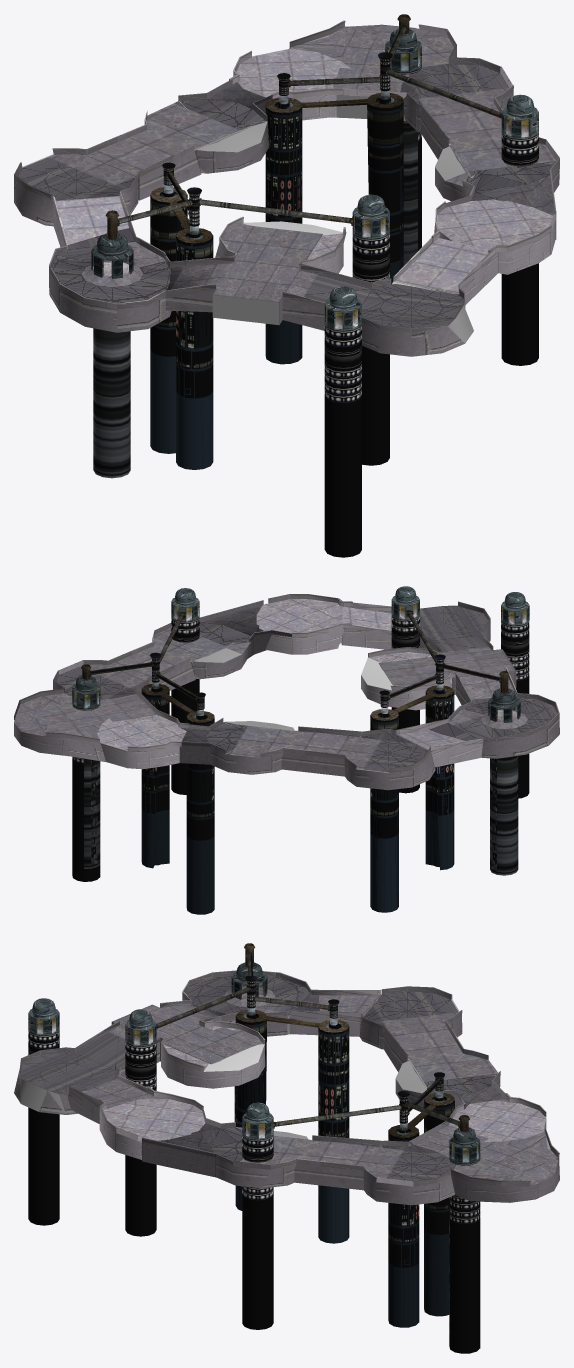
The model's file is building4.gltf.
3 renders of one model, top to bottom at view 1: azimuth 30°, elevation 25°; view 2: azimuth 150°, elevation 25°; view 3: azimuth 270°, elevation 25°, orthographic. The views are drawn at different scales.
Parts seen in each view (by area): view 1: polymsh6, polymsh7, polymsh1255, polymsh1249, polymsh8, polymsh1248, cylinder16, cube, polymsh_detached36, polymsh1250, cylinder15, cylinder71 (+6 smaller); view 2: polymsh1255, polymsh7, polymsh6, polymsh1249, polymsh8, polymsh1248, polymsh1250, cylinder71, cylinder15, polymsh_detached36, cube, cylinder (+5 smaller); view 3: polymsh1255, polymsh1249, polymsh6, polymsh7, polymsh8, polymsh_detached36, polymsh1248, polymsh1250, cylinder16, cylinder17, cylinder, cylinder71 (+5 smaller).
Part boxes in pixels (<box>): polymsh6: <box>49,228,473,356</box>; polymsh7: <box>14,79,271,226</box>; polymsh1255: <box>265,14,421,364</box>; polymsh1249: <box>399,57,559,239</box>; polymsh8: <box>150,162,213,469</box>; polymsh1248: <box>392,199,555,304</box>; cylinder16: <box>324,315,361,557</box>; cube: <box>212,224,322,325</box>; polymsh_detached36: <box>385,69,538,365</box>; polymsh1250: <box>289,20,456,121</box>; cylinder15: <box>93,276,130,478</box>; cylinder71: <box>229,48,407,120</box>; polymsh1255: <box>72,652,214,914</box>; polymsh7: <box>179,718,435,790</box>; polymsh6: <box>420,601,559,758</box>; polymsh1249: <box>53,600,291,699</box>; polymsh8: <box>370,654,454,912</box>; polymsh1248: <box>256,594,391,654</box>; polymsh1250: <box>14,688,156,761</box>; cylinder71: <box>97,687,189,769</box>; cylinder15: <box>490,756,518,875</box>; polymsh_detached36: <box>159,588,199,794</box>; cube: <box>378,649,516,694</box>; cylinder: <box>361,647,456,710</box>; polymsh1255: <box>388,1072,480,1353</box>; polymsh1249: <box>142,1107,456,1205</box>; polymsh6: <box>14,962,319,1114</box>; polymsh7: <box>359,986,505,1112</box>; polymsh8: <box>235,975,349,1243</box>; polymsh_detached36: <box>242,1102,401,1329</box>; polymsh1248: <box>67,1075,205,1159</box>; polymsh1250: <box>414,1125,559,1202</box>; cylinder16: <box>28,1023,59,1225</box>; cylinder17: <box>125,1034,156,1236</box>; cylinder: <box>159,1020,265,1088</box>; cylinder71: <box>408,1093,546,1146</box>.
Bounding box in the file's own units: 10.07 × 5.5 × 10.47.
14 materials, 12 textured.
